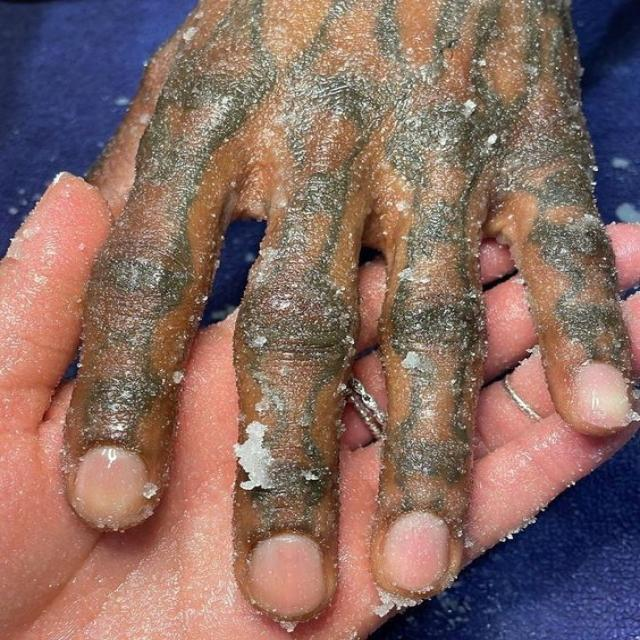Fingernail: (251, 537, 325, 616), (75, 447, 147, 523), (382, 513, 448, 591), (574, 363, 631, 429)
